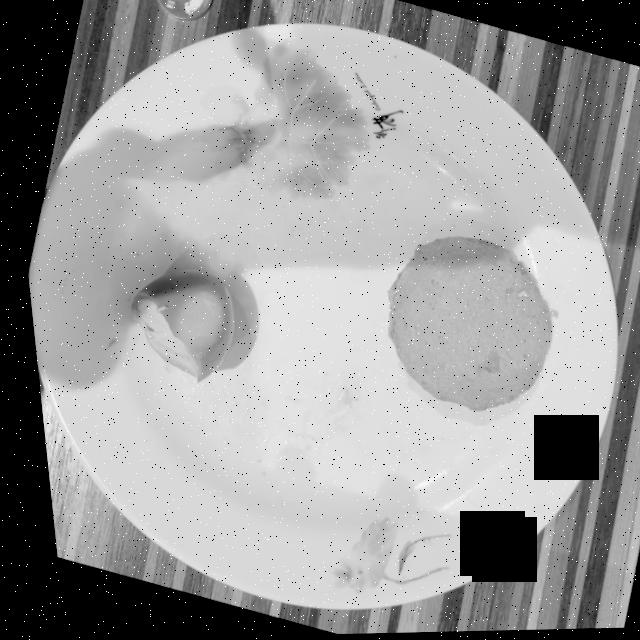Spam: (380, 238, 544, 413)
coin: (156, 0, 211, 21)
soy egg: (124, 270, 227, 381)
